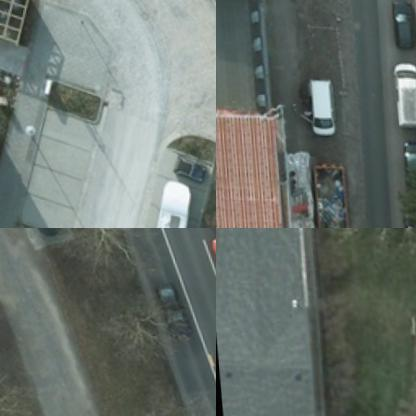car: (156, 276, 194, 334), (389, 0, 415, 46), (173, 150, 209, 182), (396, 133, 415, 191), (400, 200, 415, 227)
van: (391, 54, 415, 124), (306, 73, 333, 129)
